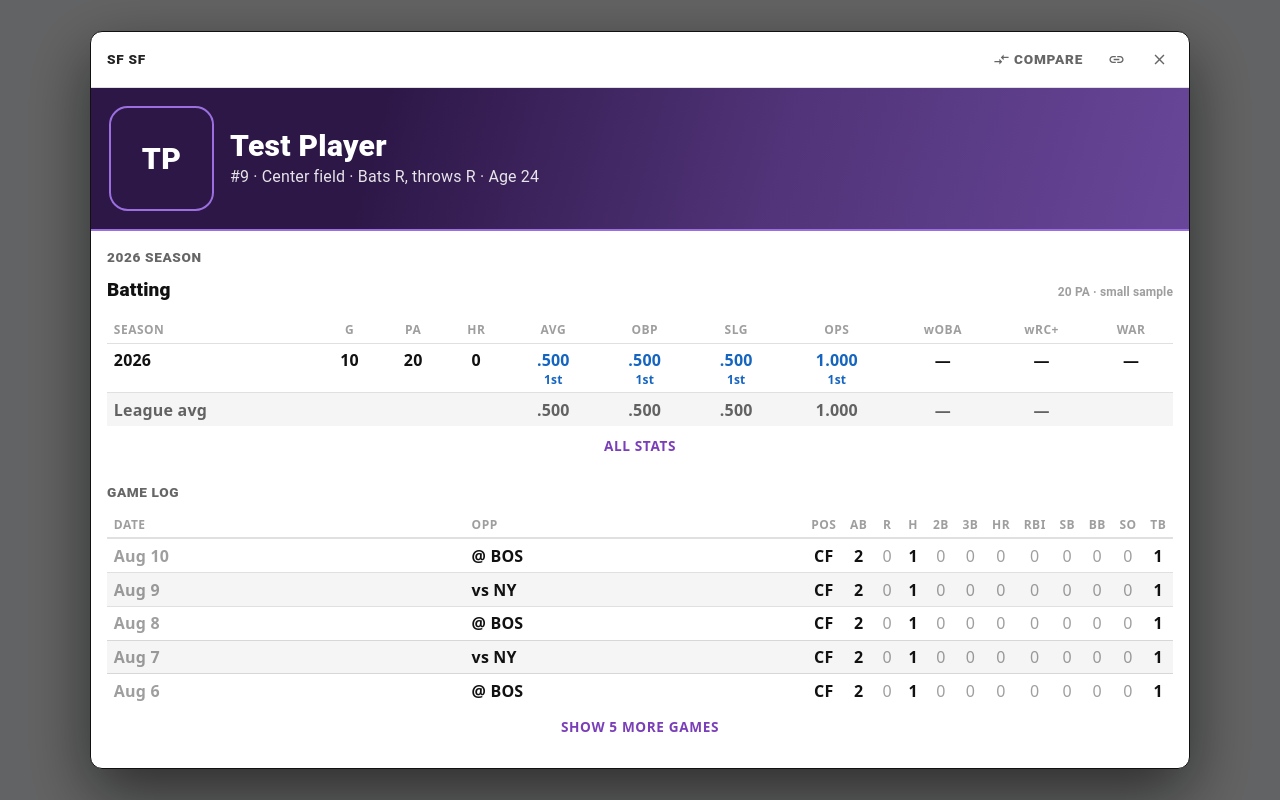
PlayerDetail: the game log › folds back to five games
Click the button "Show 5 more games": {"x": 640, "y": 728} [107, 711, 1173, 744]
(page scrolled)
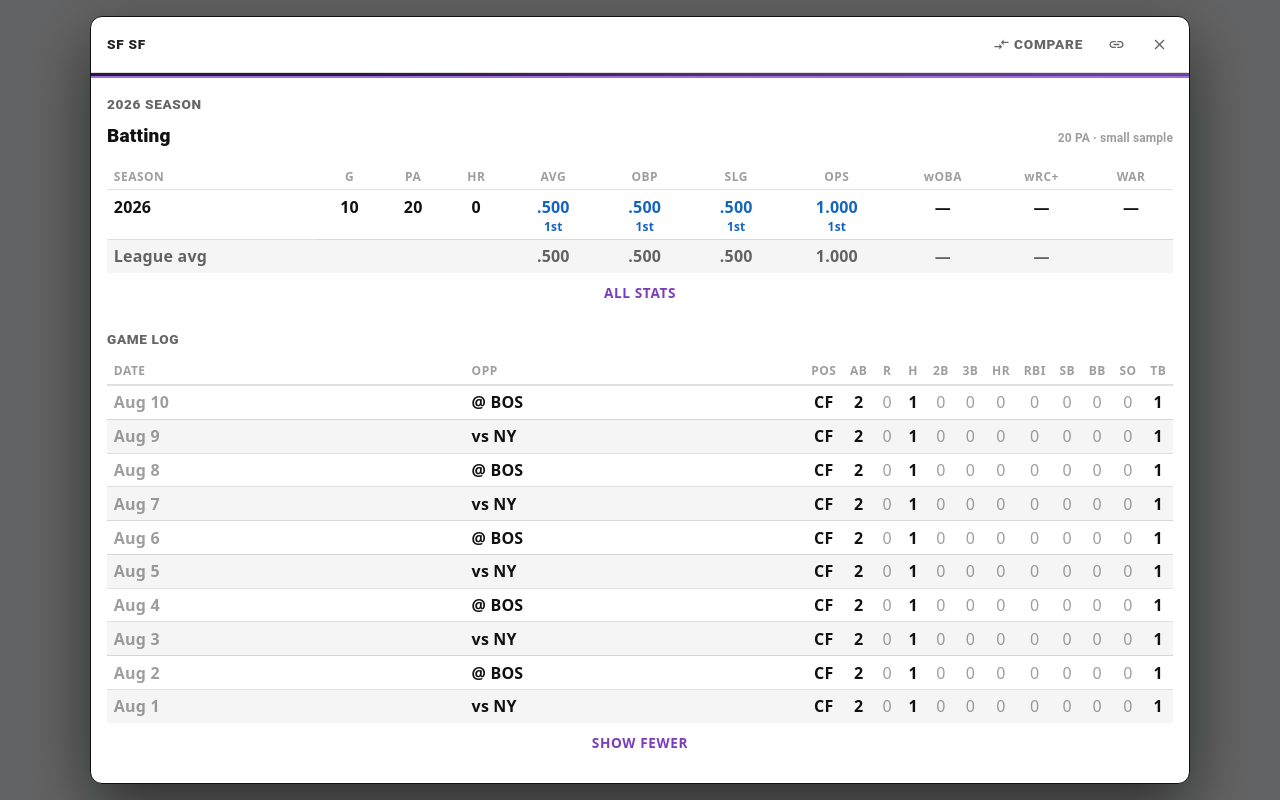
Check: the button "Show fewer" is expanded
Click the button "Show fewer": {"x": 640, "y": 743} [107, 727, 1173, 759]
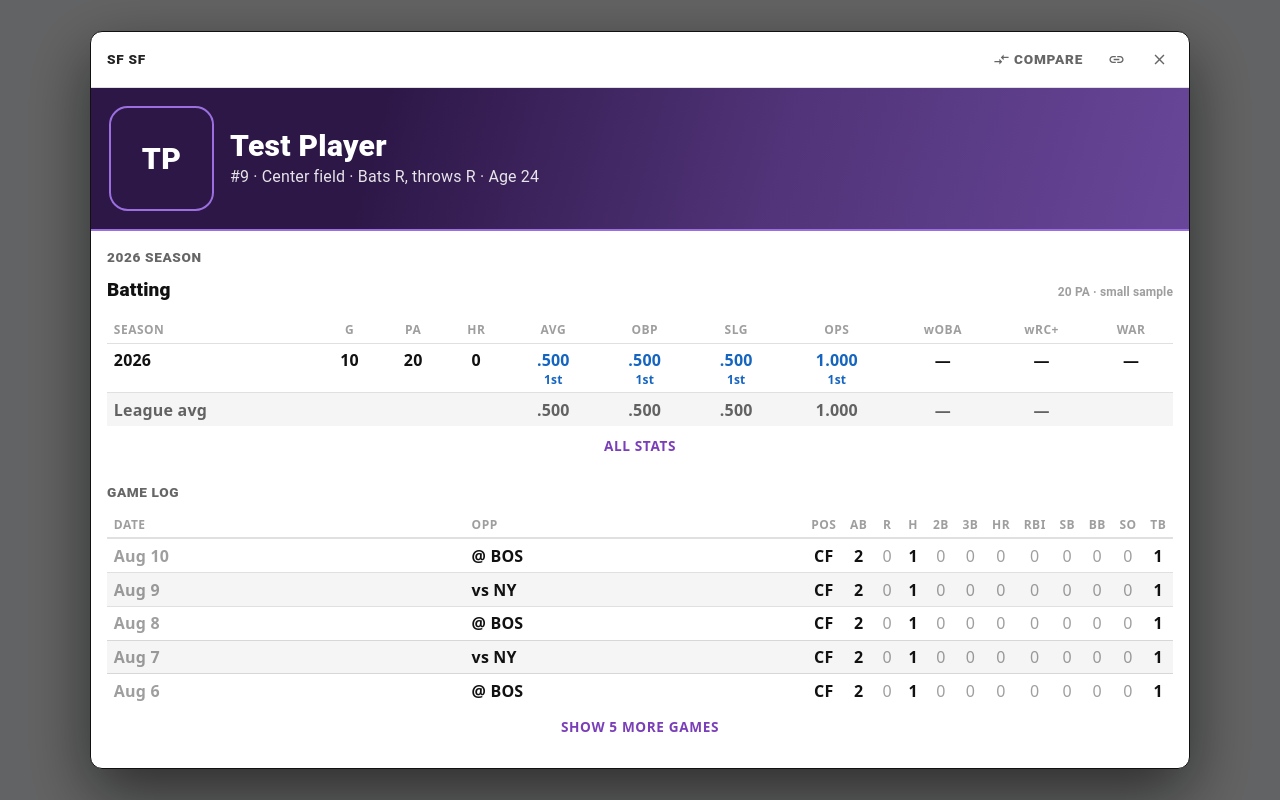
Check: the button "Show 5 more games" is collapsed, box [107, 711, 1173, 744]
